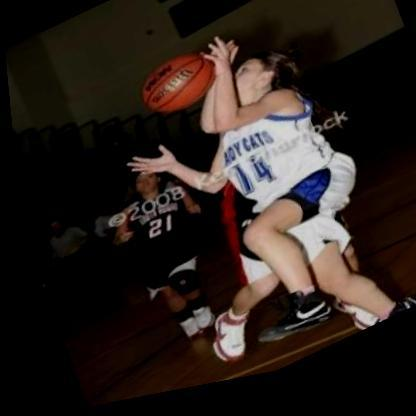basketball: (126, 39, 228, 133)
